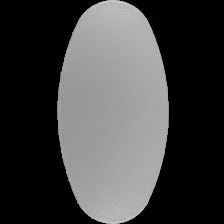53217-173: (0, 0, 224, 224)
